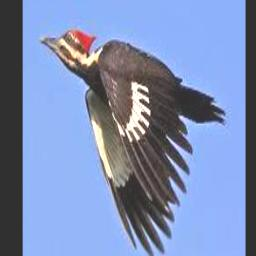Woodpecker: (40, 28, 226, 256)
